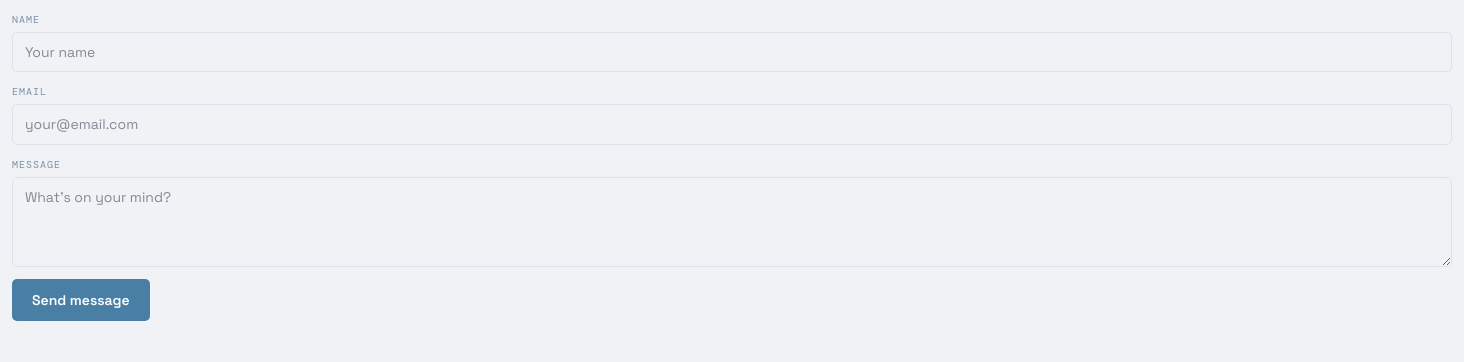
Test case: ContactForm › message validation › shows an error immediately on blur when content has fewer than 5 words
Type "too short" into the text box labelled "Message" at {"x": 732, "y": 222}, box top-left (12, 177), bottom-right (1452, 267)
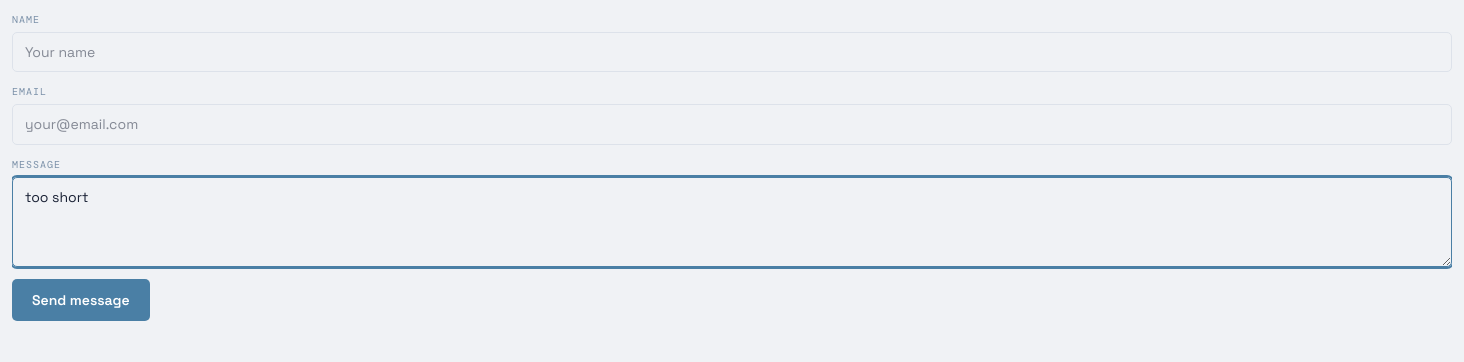
Press Tab
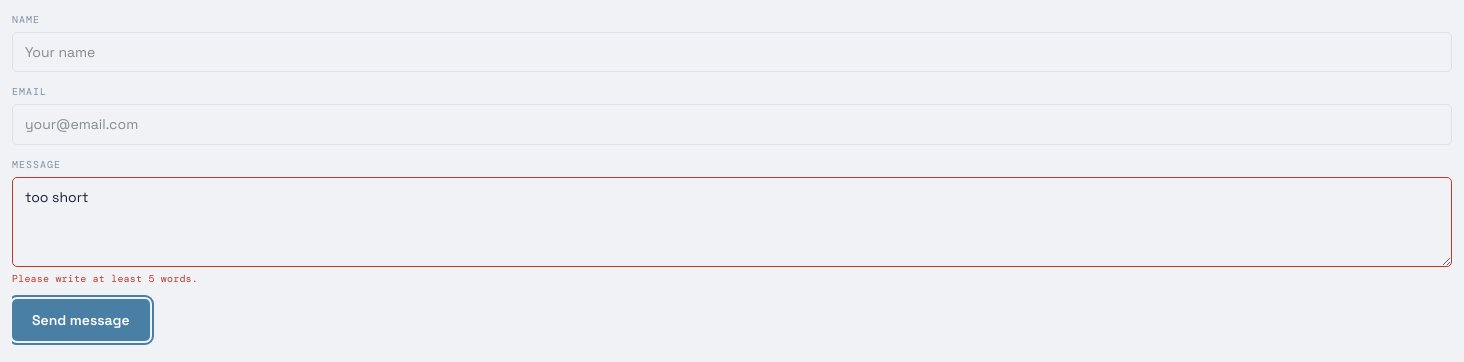
Result: the text "Please write at least 5 words." is shown at top-left (12, 272), bottom-right (198, 285)
